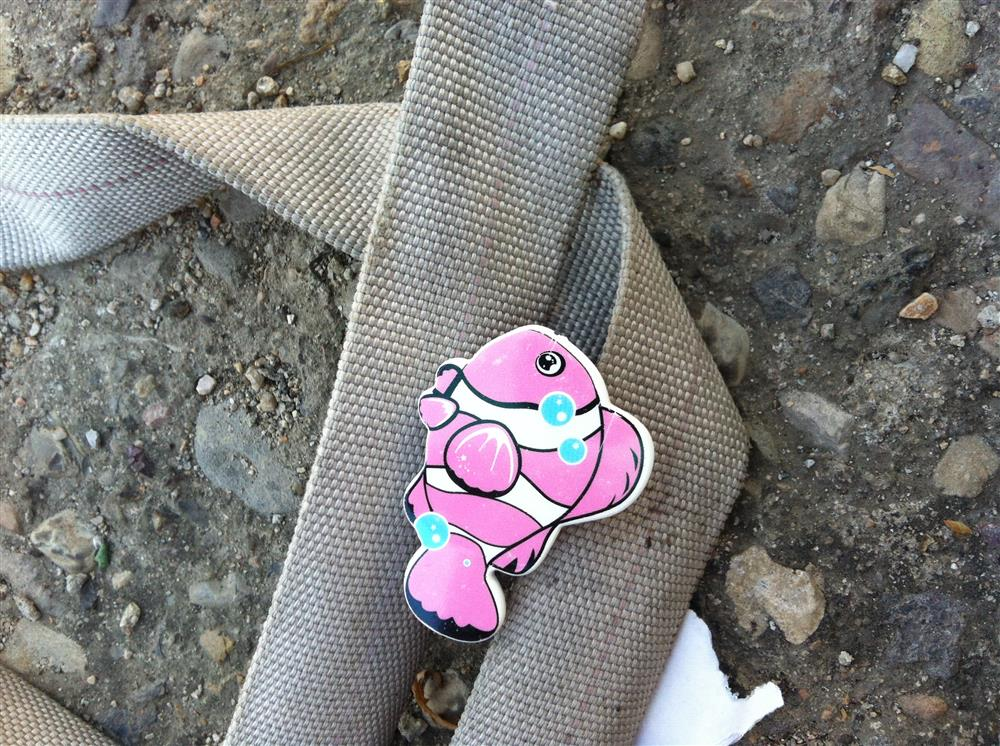fish_sticker: (449, 313, 666, 646)
